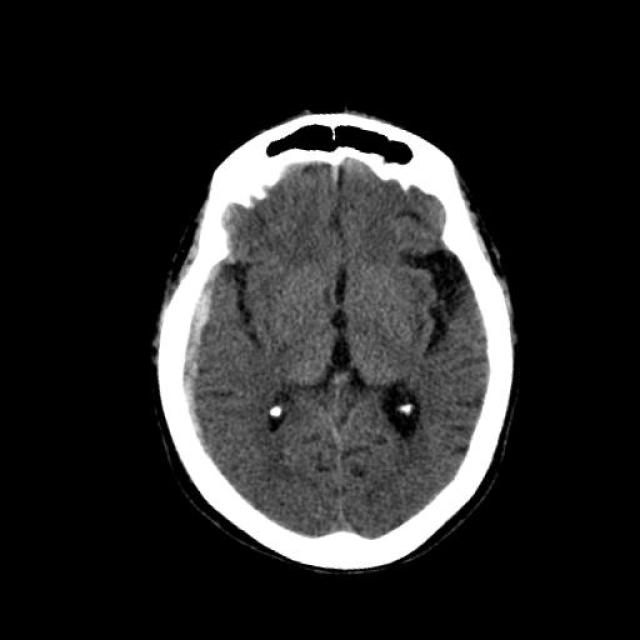Subdural: (150, 238, 248, 442)
